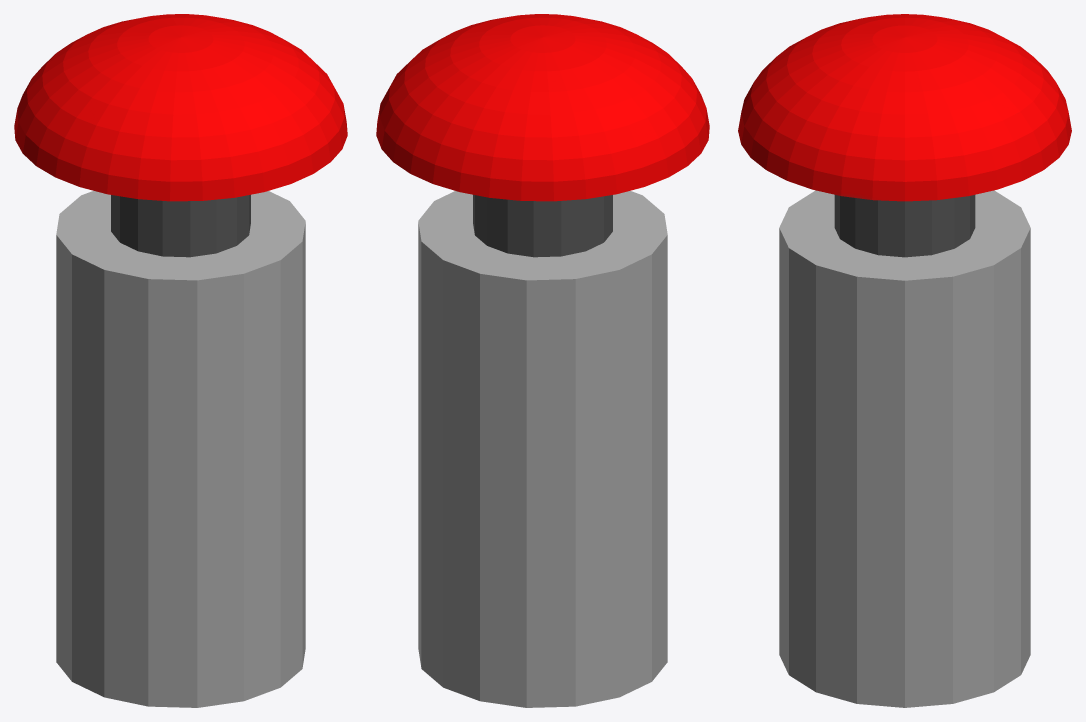
Rendered from Baton.fbx.
3 views of the same model, side by side, from view 1: azimuth 30°, elevation 25°; view 2: azimuth 150°, elevation 25°; view 3: azimuth 270°, elevation 25° (orthographic).
Parts seen in each view (by area): view 1: Cube, Cube.001; view 2: Cube, Cube.001; view 3: Cube, Cube.001.
Boxes of the visible parts, box(x1,y1,x2,y2) form: Cube: box(56, 190, 305, 707); Cube.001: box(14, 14, 347, 257); Cube: box(418, 190, 667, 707); Cube.001: box(376, 14, 709, 257); Cube: box(779, 190, 1030, 707); Cube.001: box(738, 14, 1071, 257).
Size of the model in its own units: 53.14 by 53.14 by 108.
